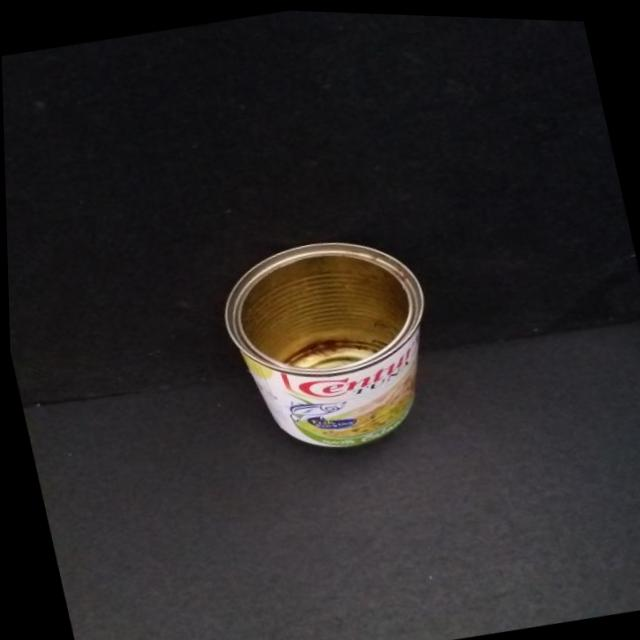metal: (208, 220, 456, 474)
